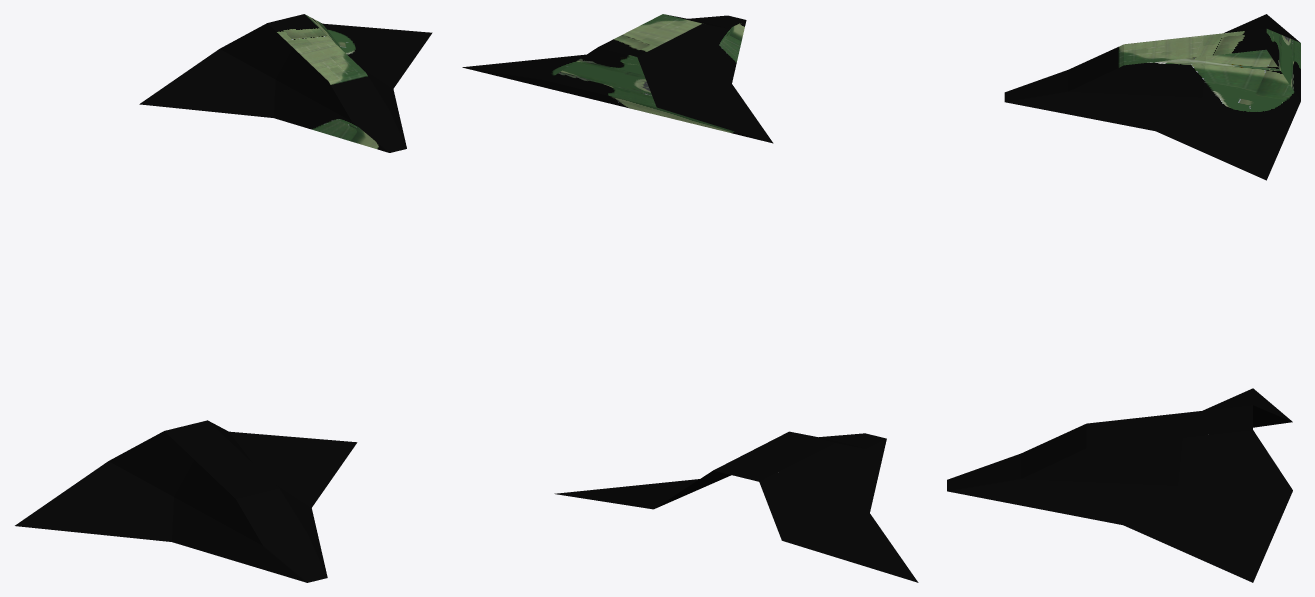
File: inimigoc.obj
The picture shows the model from 3 angles, left to right: view 1: azimuth 30°, elevation 25°; view 2: azimuth 150°, elevation 25°; view 3: azimuth 270°, elevation 25°; orthographic projection. The views are drawn at different scales.
Visible parts, largest first — view 1: Cube; view 2: Cube; view 3: Cube.
Part boxes in pixels (<box>): Cube: <box>15,14,432,582</box>; Cube: <box>462,14,918,582</box>; Cube: <box>947,14,1300,582</box>.
Bounding box in the file's own units: 0.2898 × 0.2844 × 0.1801.
